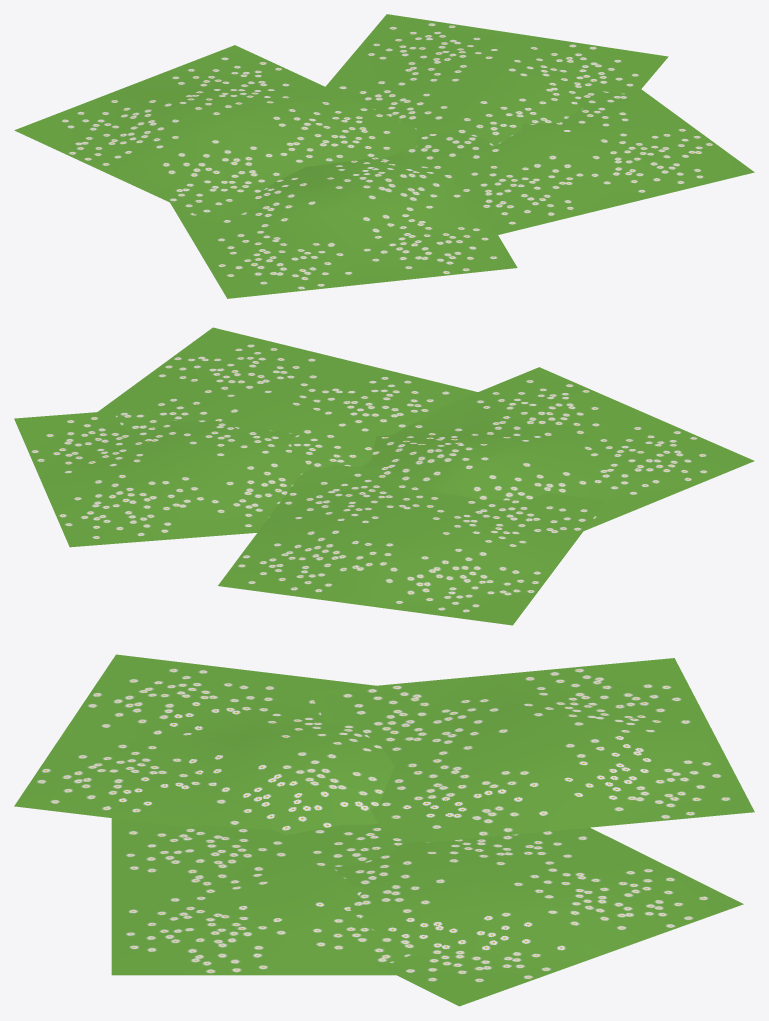
File: daisies.dae
3 views of the same model, one above another, from view 1: azimuth 30°, elevation 25°; view 2: azimuth 150°, elevation 25°; view 3: azimuth 270°, elevation 25° (orthographic). The views are drawn at different scales.
Visible parts, largest first — view 1: polySurface4, polySurface5, polySurface2, polySurface3; view 2: polySurface4, polySurface5, polySurface3, polySurface2; view 3: polySurface4, polySurface5, polySurface3, polySurface2.
Boxes of the visible parts, x1,y1,x2,y2 form: polySurface4: (14,45,420,223); polySurface5: (170,154,517,298); polySurface2: (398,89,754,234); polySurface3: (325,14,668,146); polySurface4: (218,464,605,625); polySurface5: (360,367,754,530); polySurface3: (14,410,309,547); polySurface2: (98,327,477,469); polySurface4: (310,658,754,842); polySurface5: (14,654,394,835); polySurface3: (332,827,743,1006); polySurface2: (111,818,423,975).
Bounding box in the file's own units: 8.93 × 0.173 × 7.93.
